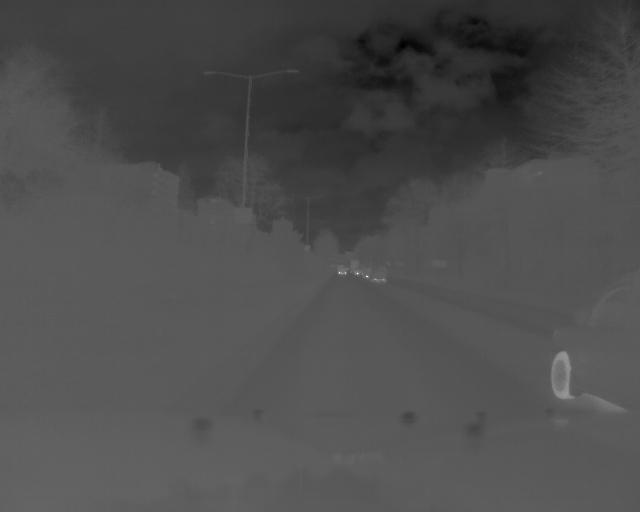car: (548, 265, 640, 411)
